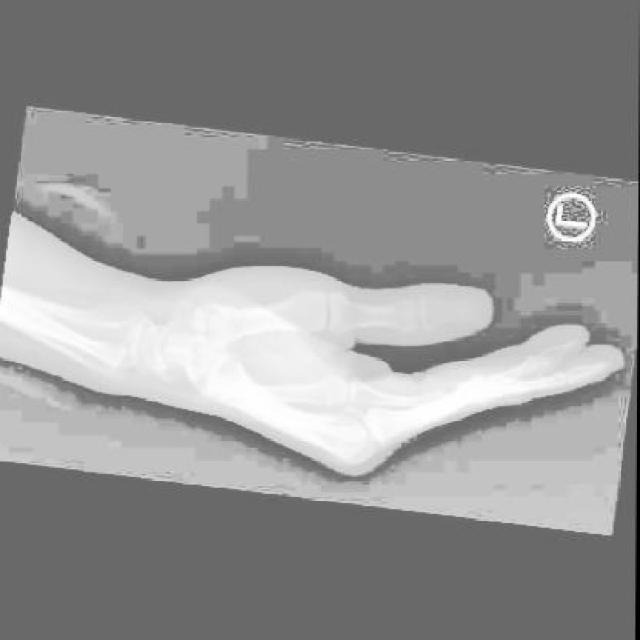Fracture: (183, 370, 211, 404)
